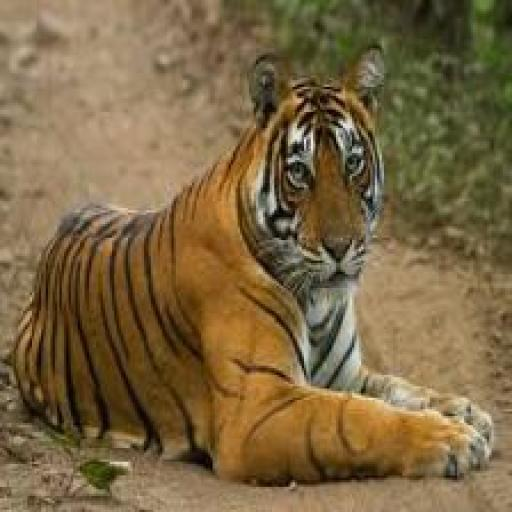Tiger: (12, 43, 500, 480)
